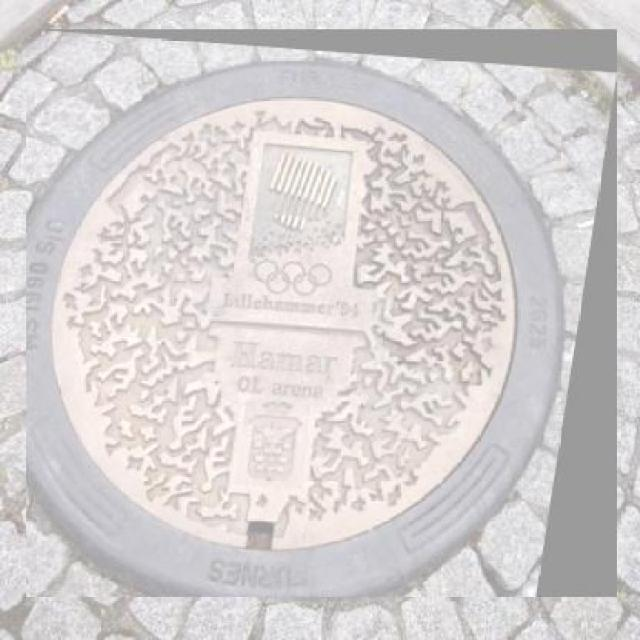Manhole: (26, 29, 617, 597)
